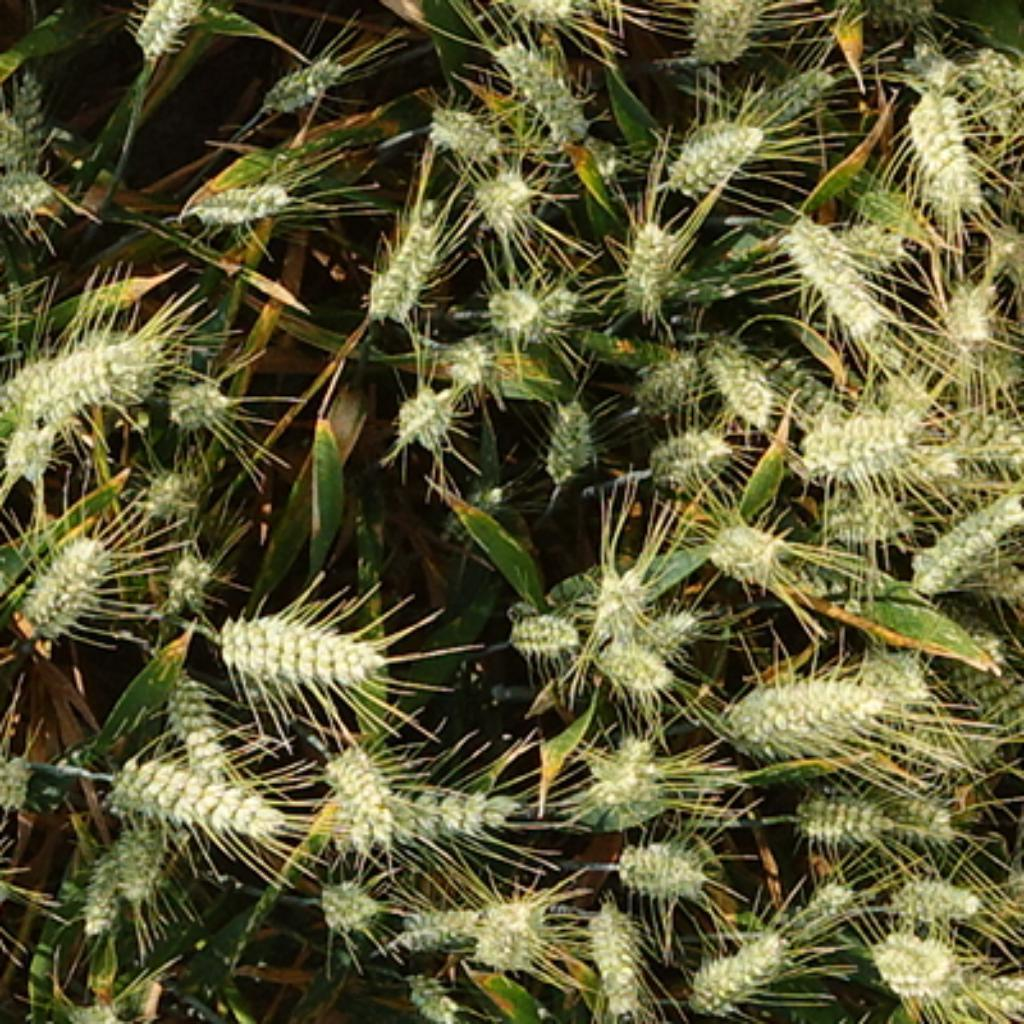0-0: (716, 650, 901, 752), (320, 752, 514, 847), (773, 202, 898, 335), (217, 610, 397, 701), (102, 744, 284, 834), (10, 335, 176, 424), (793, 378, 939, 478), (780, 768, 960, 844), (926, 606, 1024, 734), (908, 486, 1021, 593), (494, 35, 602, 145), (12, 522, 115, 634), (898, 79, 985, 209), (314, 729, 409, 842), (358, 202, 448, 317), (680, 919, 796, 1008), (663, 110, 773, 200), (573, 724, 673, 816), (0, 340, 76, 450), (865, 919, 967, 998), (581, 893, 650, 1008), (611, 824, 716, 896), (181, 163, 302, 225), (156, 657, 227, 760), (614, 207, 688, 304), (865, 783, 977, 847), (704, 325, 780, 419), (468, 880, 552, 965), (478, 266, 578, 337), (110, 816, 174, 924), (253, 38, 348, 110), (931, 268, 1006, 358), (698, 504, 788, 576), (931, 396, 1018, 468), (2, 66, 61, 168), (816, 478, 913, 540), (645, 414, 734, 481), (849, 634, 929, 706), (967, 35, 1024, 135), (624, 332, 698, 409), (747, 53, 834, 117), (591, 632, 675, 698), (422, 89, 504, 156), (432, 473, 514, 540), (888, 865, 988, 919), (678, 0, 770, 58), (537, 389, 599, 473), (138, 450, 215, 517), (391, 893, 481, 949), (501, 593, 581, 655), (389, 373, 460, 442), (468, 158, 537, 227), (583, 558, 650, 629), (502, 0, 618, 40), (949, 960, 1024, 1021), (161, 363, 235, 424), (785, 867, 857, 929), (125, 0, 209, 53), (824, 220, 903, 276), (153, 540, 217, 609), (312, 865, 384, 926), (71, 844, 117, 939), (0, 409, 64, 473), (0, 76, 43, 163), (850, 0, 946, 38), (634, 596, 701, 650), (0, 153, 58, 212), (437, 325, 496, 381), (872, 368, 939, 417), (0, 743, 35, 833), (527, 284, 588, 335), (901, 33, 957, 87), (403, 976, 462, 1024), (977, 222, 1024, 279), (61, 990, 125, 1024)
